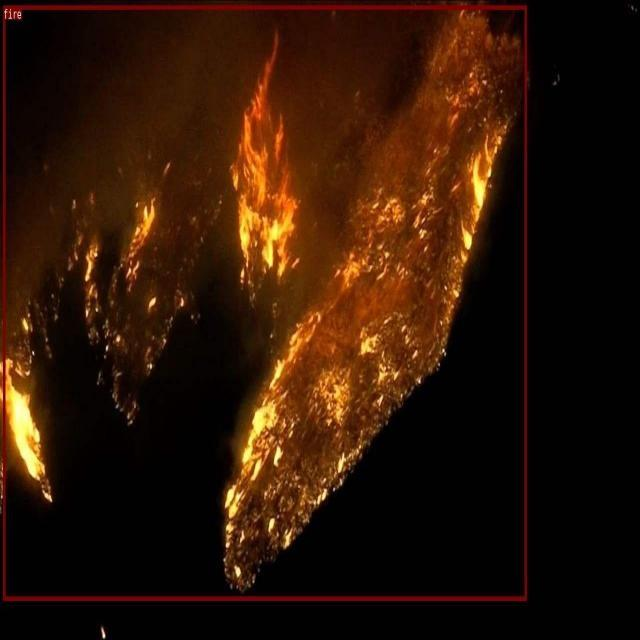fire: (3, 5, 526, 599)
